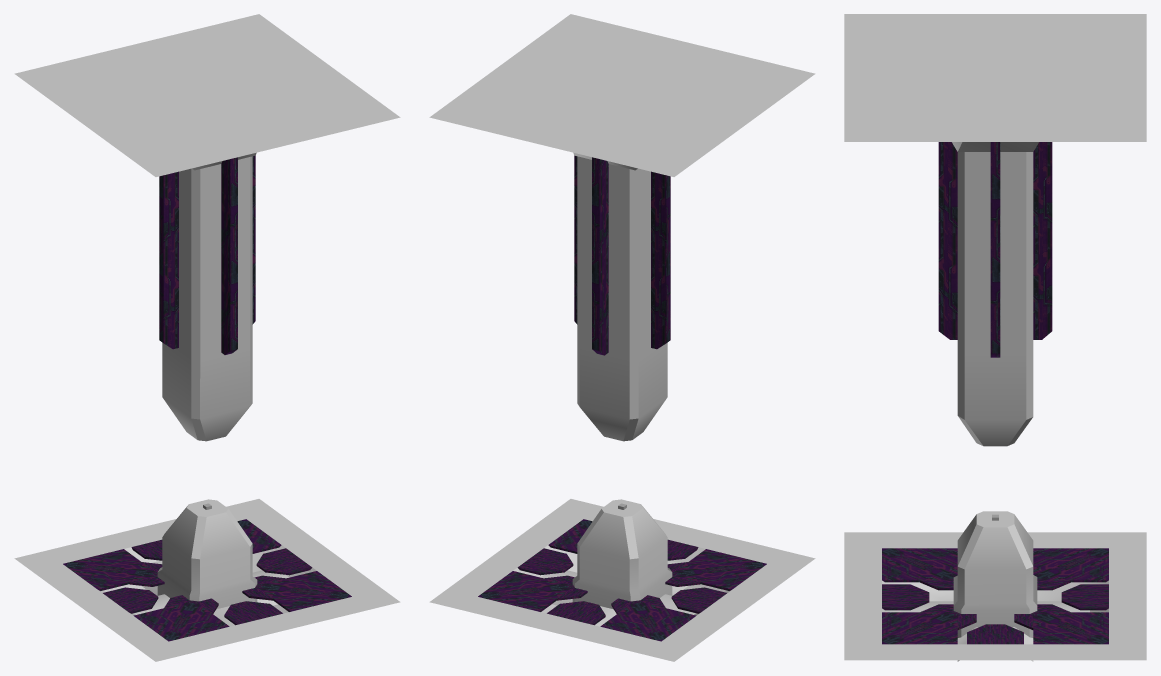
Rendered from cbturr01.FBX.
3 renders of one model, left to right at view 1: azimuth 30°, elevation 25°; view 2: azimuth 150°, elevation 25°; view 3: azimuth 270°, elevation 25°, orthographic. The views are drawn at different scales.
Parts seen in each view (by area): view 1: tower6, obj1, cbturr01, glass1, nodule1, floor; view 2: tower6, obj1, cbturr01, glass1, nodule1, floor; view 3: tower6, obj1, cbturr01, glass1, nodule1, floor.
Boxes of the visible parts, x1,y1,x2,y2 form: tower6: [14, 14, 400, 176]; obj1: [157, 156, 257, 609]; cbturr01: [14, 499, 400, 661]; glass1: [63, 519, 351, 641]; nodule1: [134, 152, 288, 626]; floor: [99, 545, 316, 615]; tower6: [429, 14, 815, 176]; obj1: [572, 156, 672, 609]; cbturr01: [429, 499, 815, 661]; glass1: [478, 519, 766, 641]; nodule1: [541, 152, 695, 626]; floor: [513, 545, 730, 615]; tower6: [844, 14, 1146, 141]; obj1: [953, 152, 1037, 637]; cbturr01: [844, 532, 1146, 660]; glass1: [882, 548, 1108, 644]; nodule1: [901, 142, 1089, 661]; floor: [882, 580, 1108, 612].
Size of the model in its own units: 64 by 127 by 64.
